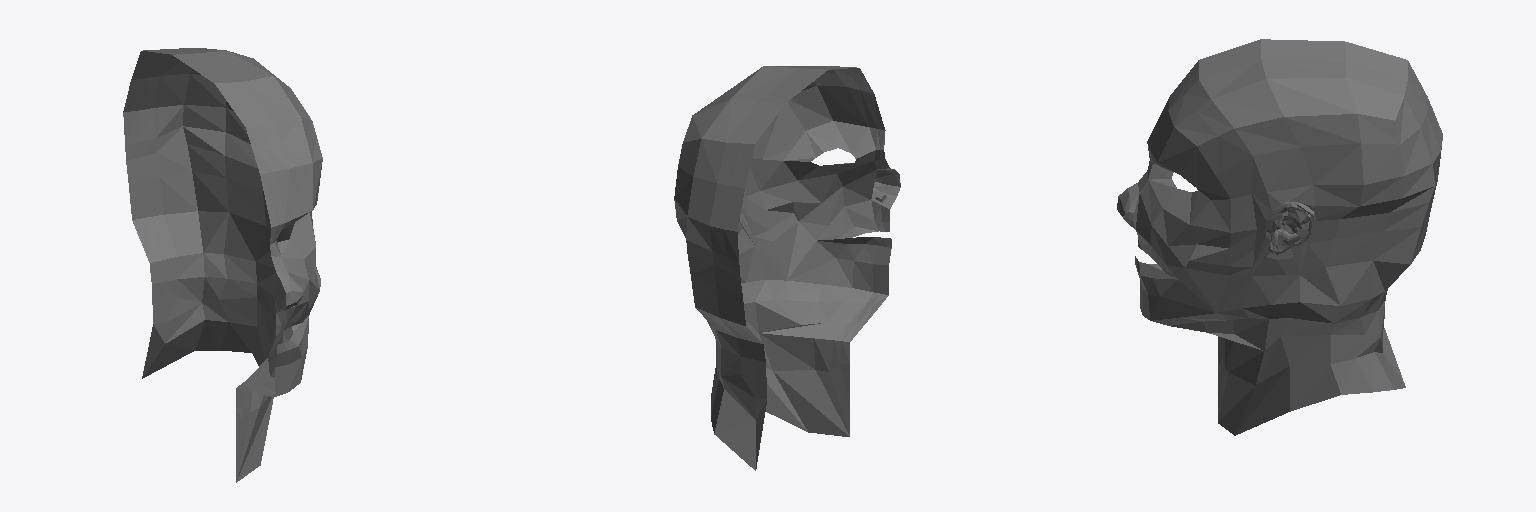
Rendered from HeadWithNeck.obj.
The picture shows the model from 3 angles: view 1: azimuth 30°, elevation 25°; view 2: azimuth 150°, elevation 25°; view 3: azimuth 270°, elevation 25°; orthographic projection.
Parts seen in each view (by area): view 1: ear:Mesh1; view 2: ear:Mesh1; view 3: ear:Mesh1.
Boxes of the visible parts, box(x1,y1,x2,y2) form: ear:Mesh1: box(123, 48, 322, 482); ear:Mesh1: box(674, 66, 900, 470); ear:Mesh1: box(1117, 39, 1442, 435).
Bounding box in the file's own units: 27.91 × 100 × 77.22.